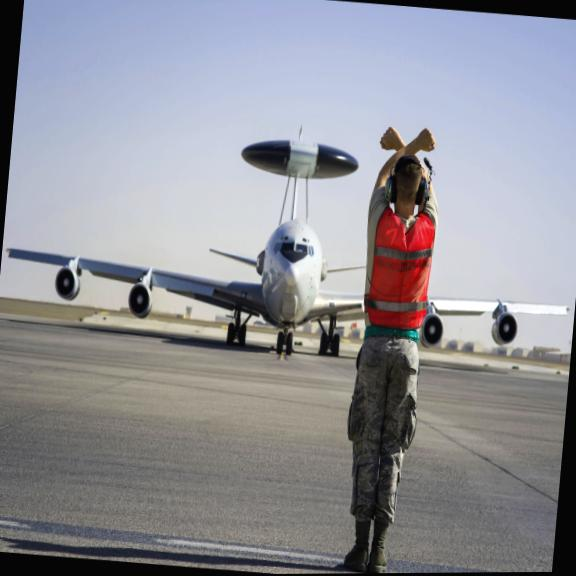safety_vest: (358, 199, 442, 340)
